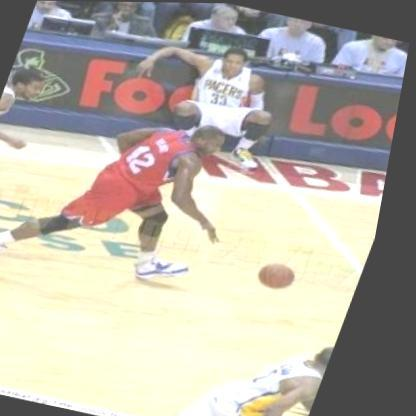basketball: (260, 255, 312, 295)
